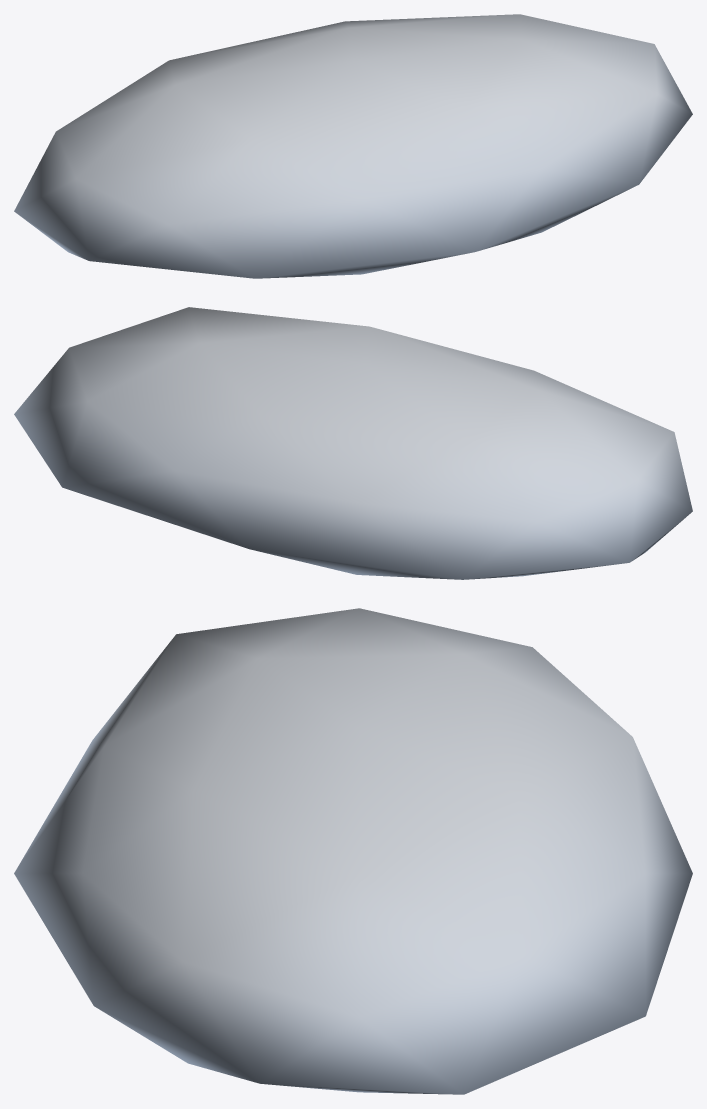
The model's file is Alpine_SnowDrift.fbx.
3 views of the same model, one above another, from view 1: azimuth 30°, elevation 25°; view 2: azimuth 150°, elevation 25°; view 3: azimuth 270°, elevation 25° (orthographic). The views are drawn at different scales.
Visible parts, largest first — view 1: Alpine_SnowDrift; view 2: Alpine_SnowDrift; view 3: Alpine_SnowDrift.
Boxes of the visible parts, x1,y1,x2,y2 form: Alpine_SnowDrift: [14, 14, 692, 278]; Alpine_SnowDrift: [14, 307, 692, 579]; Alpine_SnowDrift: [14, 608, 692, 1094].
Size of the model in its own units: 4.97 by 0.9227 by 3.3.
